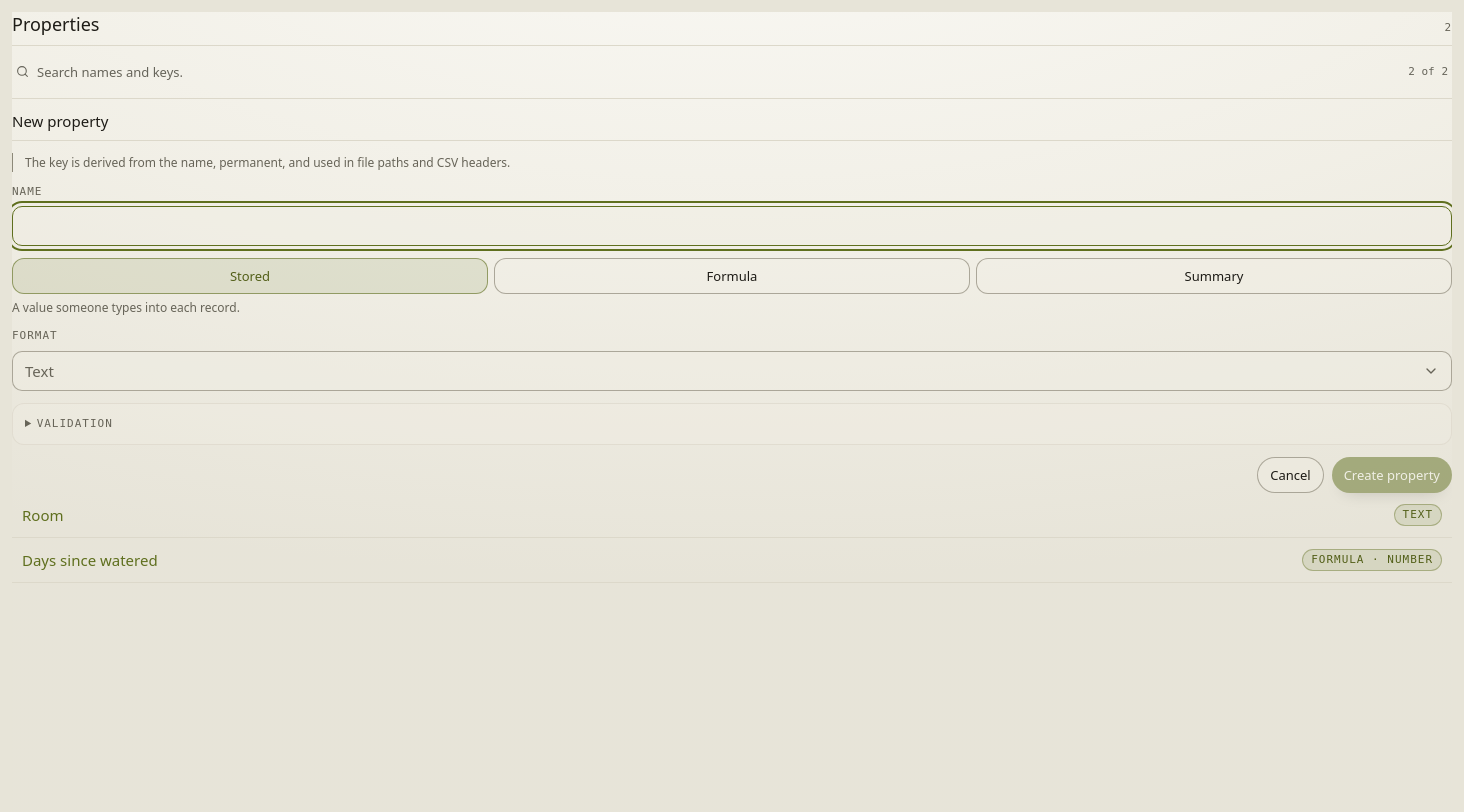
PropertyList › reveals the expression field when the new property is a formula
The image size is (1464, 812).
Click the radio button labelled "Formula" at coordinates (732, 276), box [494,258,970,294]
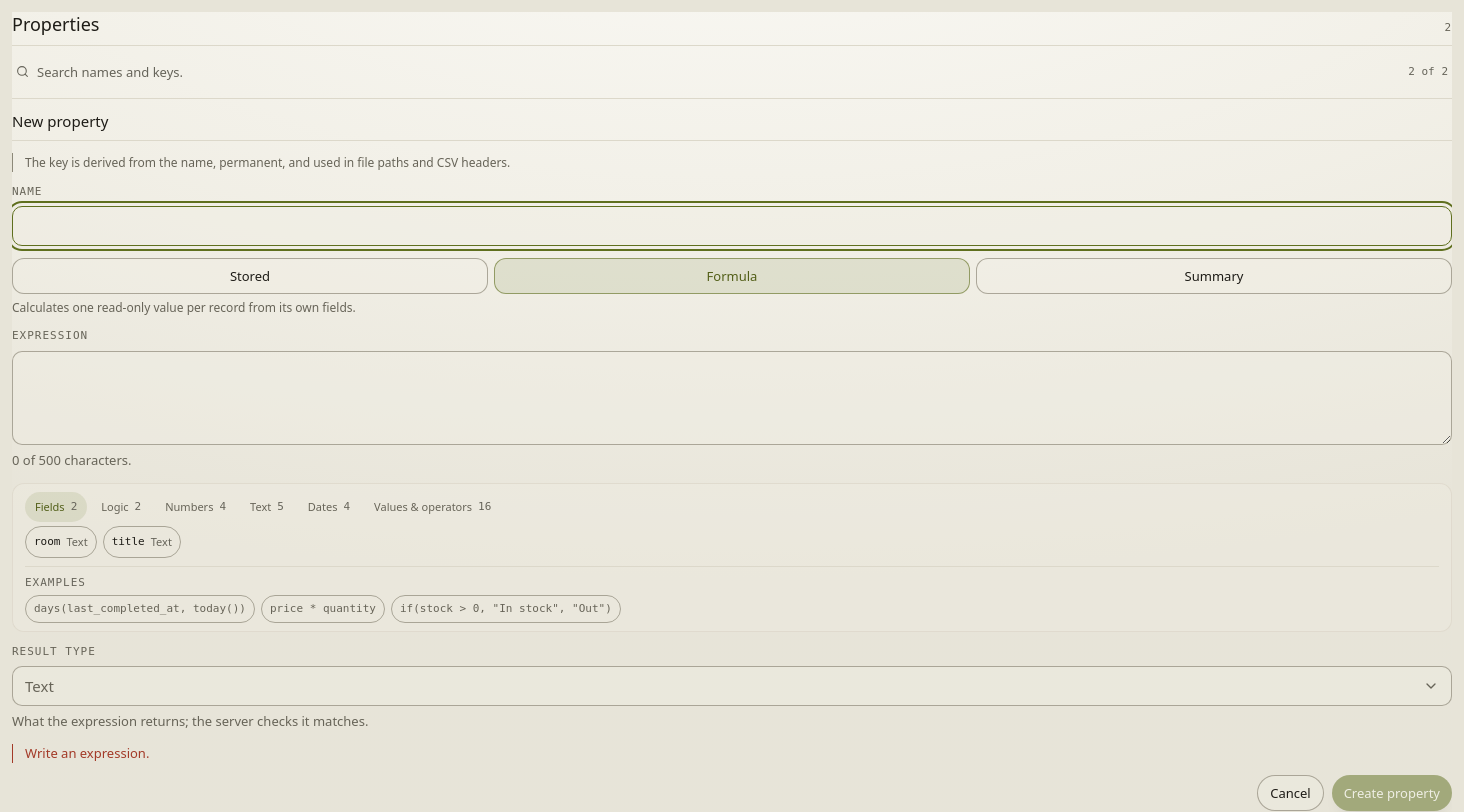
Check: the text box labelled "Expression" is shown, box [12,351,1452,446]
Check: the label "Format" is gone
